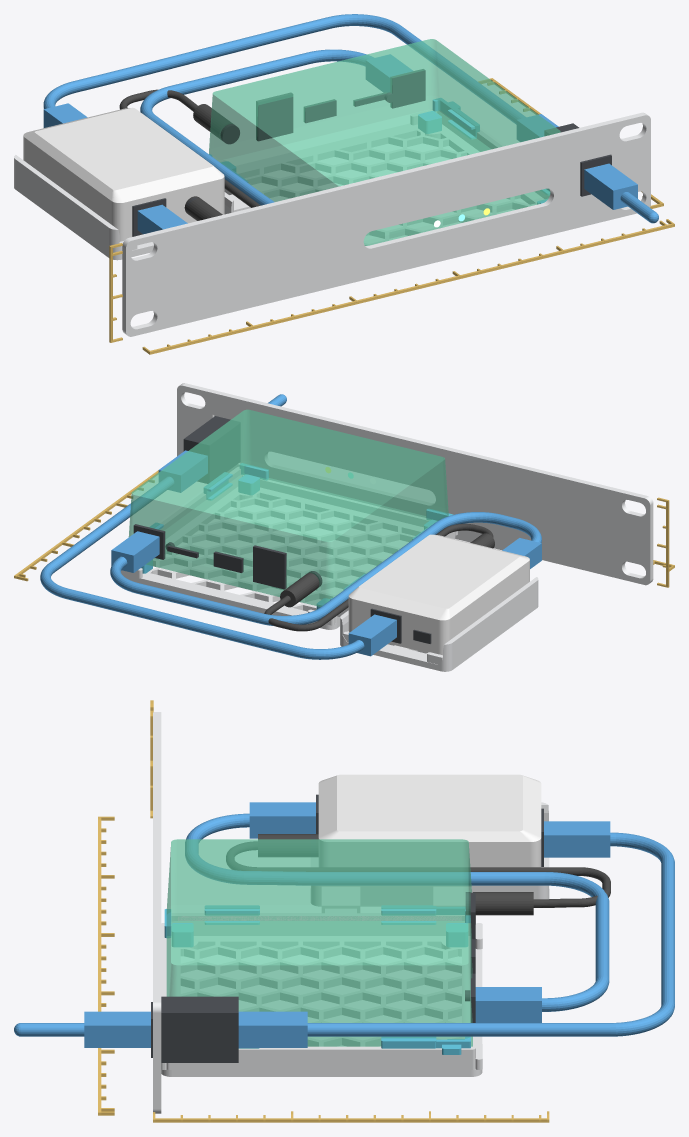
File: home-assistant-green-rack-front_ethernet_far_right-no_shutter.glb
The picture shows the model from 3 angles, top to bottom: view 1: azimuth 30°, elevation 25°; view 2: azimuth 150°, elevation 25°; view 3: azimuth 270°, elevation 25°; orthographic projection. The views are drawn at different scales.
Visible parts, largest first — view 1: White rack mount, Home Assistant Green, TP-Link TL-PD30G-M2, Front keystone → TP-Link PoE jumper, Green tray — standard, Internal Ethernet cable, Home Assistant Green connector faces, 10 mm dimension rulers, TP-Link cradle side walls, DC cable, Green retention — segmented rails + rear latch, TP-Link cradle floor (+1 smaller); view 2: Home Assistant Green, White rack mount, Green tray — standard, TP-Link TL-PD30G-M2, Front keystone → TP-Link PoE jumper, Internal Ethernet cable, TP-Link cradle side walls, Home Assistant Green connector faces, Front keystone coupler, DC cable, Green retention — segmented rails + rear latch, 10 mm dimension rulers (+2 smaller); view 3: Home Assistant Green, Green tray — standard, TP-Link TL-PD30G-M2, Front keystone → TP-Link PoE jumper, Internal Ethernet cable, DC cable, Front keystone coupler, White rack mount, Green retention — segmented rails + rear latch, 10 mm dimension rulers, TP-Link cradle side walls, Home Assistant Green connector faces (+1 smaller).
Boxes of the visible parts, bbox=[...] form: White rack mount: bbox=[122, 112, 650, 336]; Home Assistant Green: bbox=[209, 39, 560, 245]; TP-Link TL-PD30G-M2: bbox=[23, 107, 224, 241]; Front keystone → TP-Link PoE jumper: bbox=[43, 14, 658, 223]; Green tray — standard: bbox=[219, 109, 549, 245]; Internal Ethernet cable: bbox=[137, 49, 412, 234]; Home Assistant Green connector faces: bbox=[220, 69, 425, 144]; 10 mm dimension rulers: bbox=[109, 78, 674, 354]; TP-Link cradle side walls: bbox=[14, 155, 233, 252]; DC cable: bbox=[119, 89, 260, 220]; Green retention — segmented rails + rear latch: bbox=[209, 98, 549, 204]; TP-Link cradle floor: bbox=[14, 182, 153, 260]; Home Assistant Green: bbox=[128, 409, 448, 606]; White rack mount: bbox=[177, 383, 653, 616]; Green tray — standard: bbox=[121, 467, 457, 629]; TP-Link TL-PD30G-M2: bbox=[348, 534, 529, 655]; Front keystone → TP-Link PoE jumper: bbox=[40, 394, 396, 659]; Internal Ethernet cable: bbox=[110, 512, 541, 625]; TP-Link cradle side walls: bbox=[340, 577, 538, 665]; Home Assistant Green connector faces: bbox=[133, 524, 322, 589]; Front keystone coupler: bbox=[183, 416, 240, 483]; DC cable: bbox=[264, 523, 494, 631]; Green retention — segmented rails + rear latch: bbox=[141, 463, 453, 609]; 10 mm dimension rulers: bbox=[14, 470, 674, 587]; Home Assistant Green: bbox=[166, 839, 472, 1046]; Green tray — standard: bbox=[161, 913, 482, 1076]; TP-Link TL-PD30G-M2: bbox=[318, 774, 541, 867]; Front keystone → TP-Link PoE jumper: bbox=[14, 821, 674, 1047]; Internal Ethernet cable: bbox=[185, 802, 609, 1022]; DC cable: bbox=[226, 834, 610, 915]; Front keystone coupler: bbox=[151, 996, 238, 1062]; White rack mount: bbox=[153, 712, 471, 1113]; Green retention — segmented rails + rear latch: bbox=[164, 905, 470, 1054]; 10 mm dimension rulers: bbox=[98, 700, 549, 1122]; TP-Link cradle side walls: bbox=[311, 802, 549, 899]; Home Assistant Green connector faces: bbox=[465, 892, 475, 1022].
Size of what is drawn, in the model's own units: 268 by 44.45 by 240.
